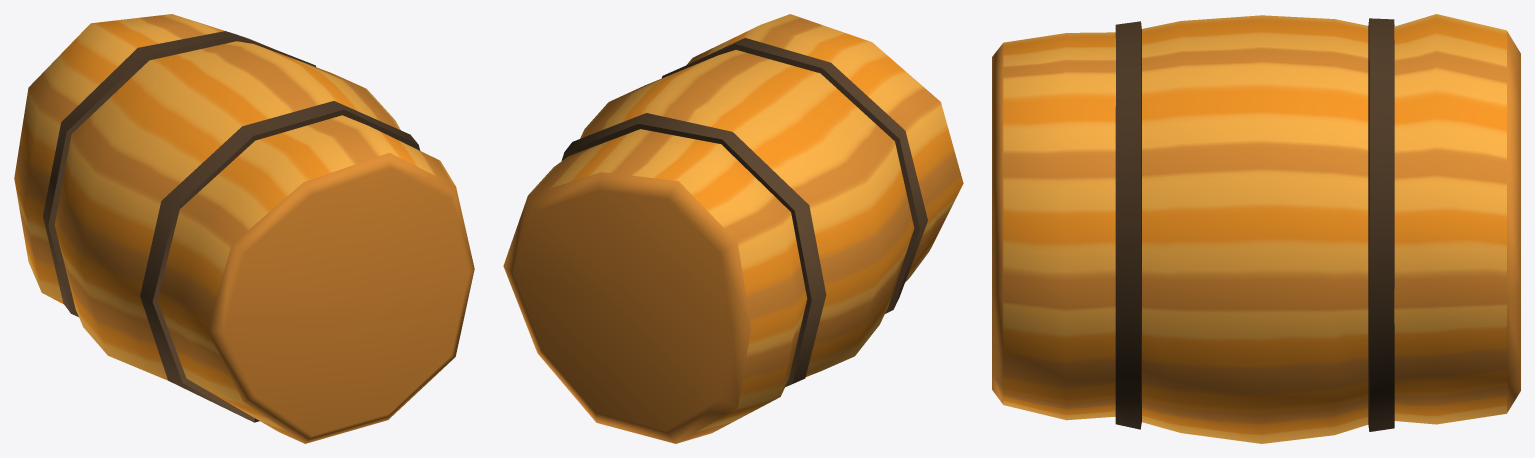
File: MM_HayBale.fbx
3 renders of one model, left to right at view 1: azimuth 30°, elevation 25°; view 2: azimuth 150°, elevation 25°; view 3: azimuth 270°, elevation 25°, orthographic. The views are drawn at different scales.
Visible parts, largest first — view 1: MM_HayBale; view 2: MM_HayBale; view 3: MM_HayBale.
Part boxes in pixels (bbox=[...]): MM_HayBale: bbox=[14, 14, 474, 443]; MM_HayBale: bbox=[503, 14, 963, 443]; MM_HayBale: bbox=[992, 14, 1520, 443].
Size of the model in its own units: 104 by 98.23 by 128.
